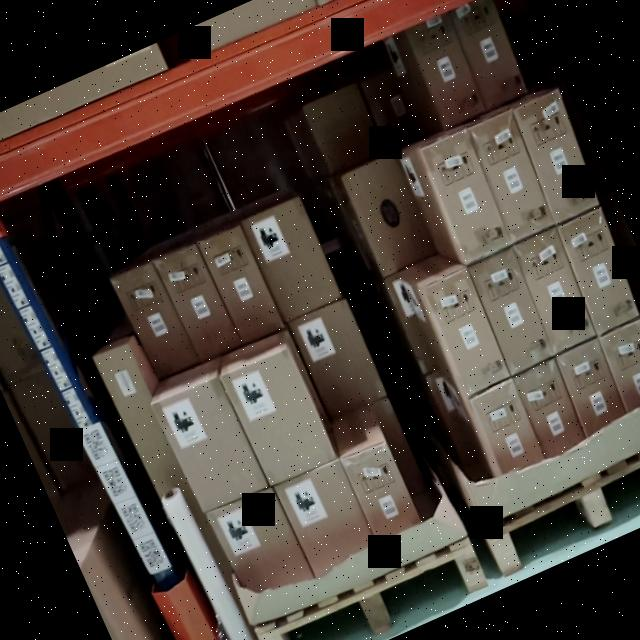box: (223, 348, 334, 484), (157, 378, 265, 512), (243, 198, 341, 318), (422, 131, 510, 262), (208, 486, 310, 598), (468, 112, 555, 243), (342, 155, 436, 275), (514, 92, 599, 223), (276, 461, 376, 571), (292, 302, 388, 416), (469, 249, 554, 377), (424, 271, 510, 397), (513, 229, 595, 354), (559, 208, 638, 336), (156, 244, 240, 360), (200, 226, 282, 342), (406, 12, 486, 128), (116, 264, 194, 378), (451, 0, 527, 109), (342, 440, 421, 540), (302, 84, 385, 174), (466, 381, 545, 475), (514, 357, 585, 458), (557, 338, 626, 438), (362, 69, 418, 149), (599, 320, 640, 413)
